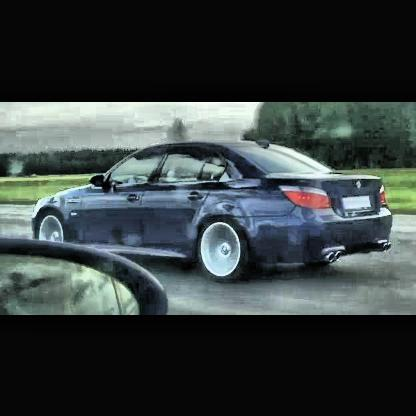BMW M5 Sedan 2010: (34, 141, 395, 283)
